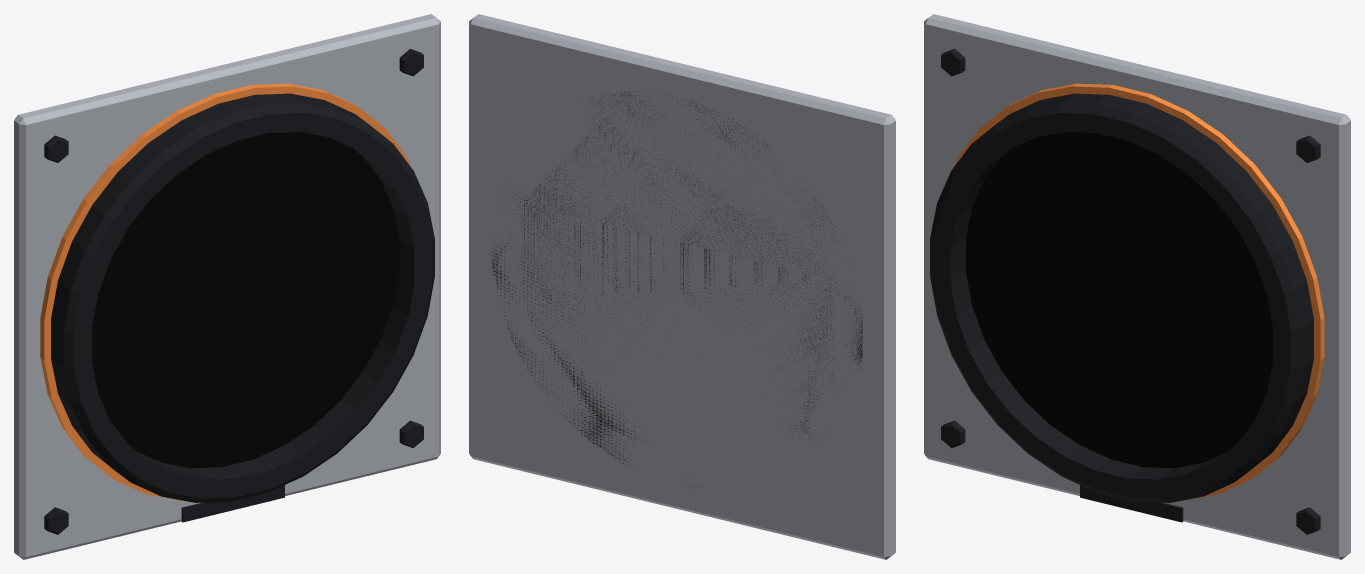
Rendered from multidisplay_housing.glb.
3 renders of one model, left to right at view 1: azimuth 30°, elevation 25°; view 2: azimuth 150°, elevation 25°; view 3: azimuth 330°, elevation 25°, orthographic.
Visible parts, largest first — view 1: MultiDisplayHousing; view 2: MultiDisplayHousing; view 3: MultiDisplayHousing.
Part boxes in pixels (x1,y1,x2,y2): MultiDisplayHousing: (14,14,440,559); MultiDisplayHousing: (469,14,895,559); MultiDisplayHousing: (924,14,1350,559).
Bounding box in the file's own units: 0.19 × 0.19 × 0.024.
